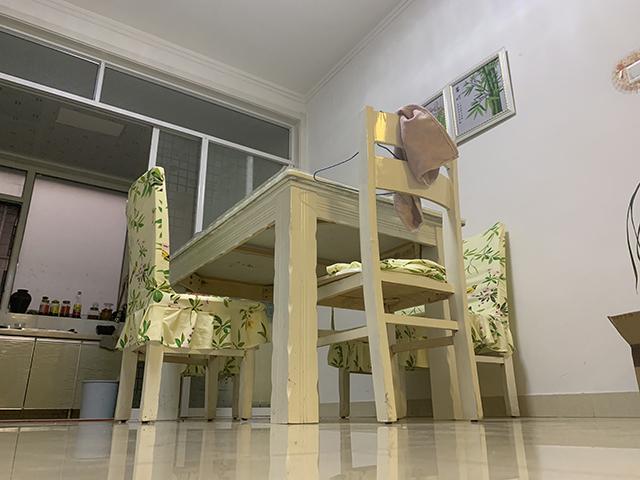cabinet: (1, 325, 123, 419)
stool: (317, 104, 485, 425), (113, 164, 271, 424), (392, 220, 522, 419), (326, 304, 427, 420)
table: (147, 162, 468, 425)
trashcan: (76, 379, 120, 421)
